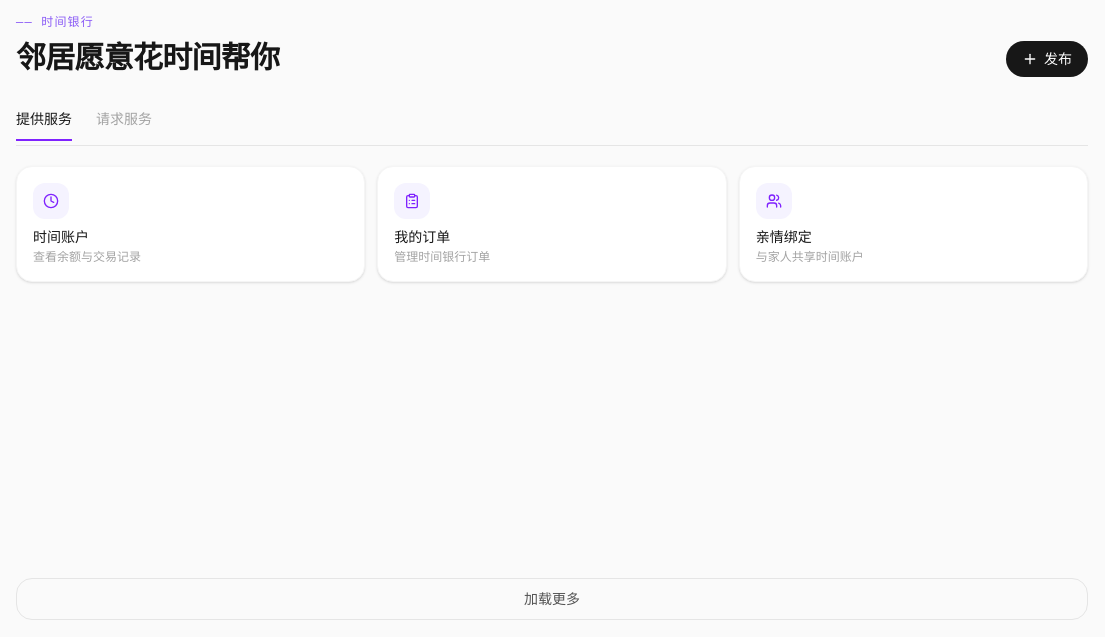
Scenario: TimeBank/index 时间银行列表页 › 点击"请求服务"Tab 切换标题为"邻居需要你的一小时"并传 type=request
Click the button "请求服务" at (124, 124), box [96,108,152,140]
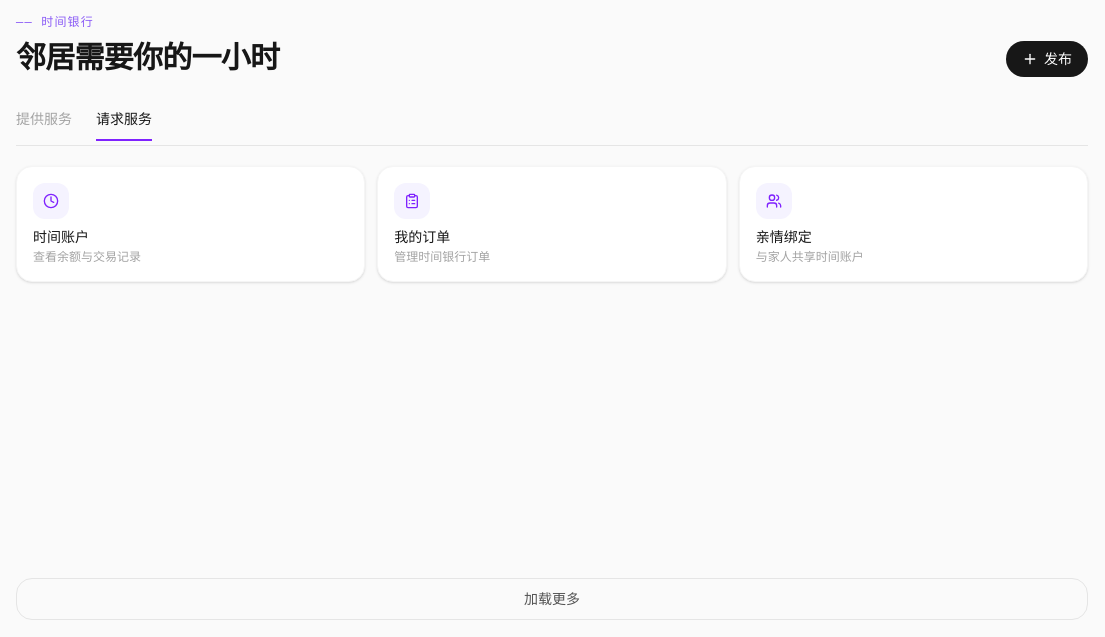
expect the heading "邻居需要你的一小时" is shown: met, box [16,39,279,76]
